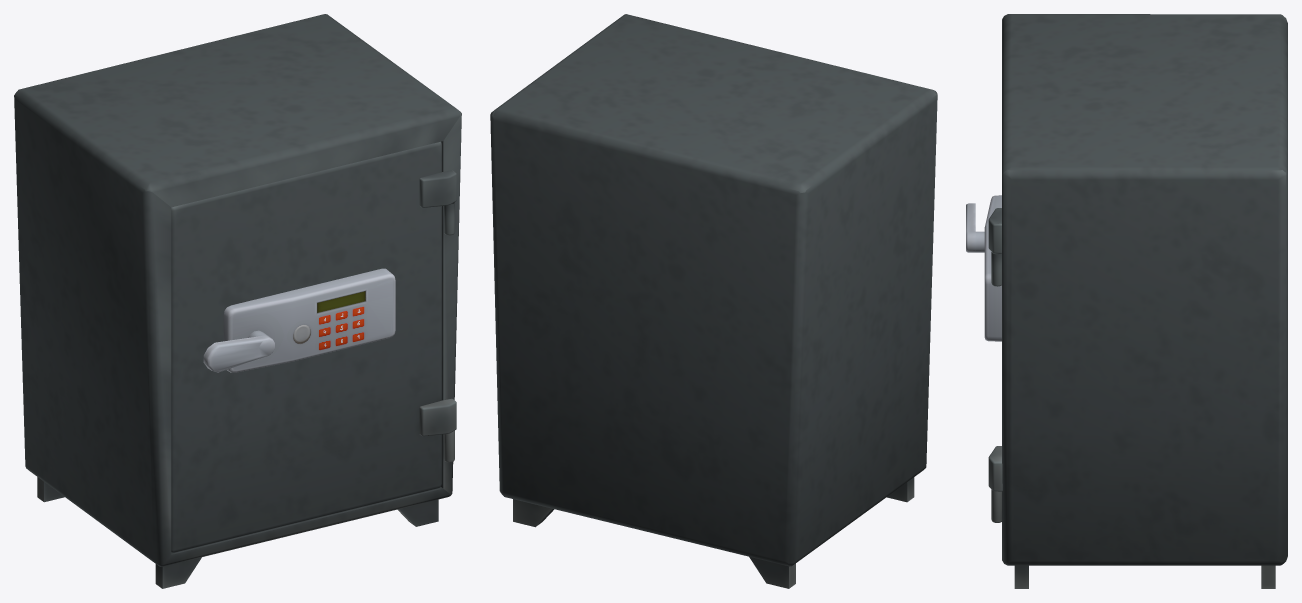
Rendered from OfficeSafe01_1.FBX.
3 renders of one model, left to right at view 1: azimuth 30°, elevation 25°; view 2: azimuth 150°, elevation 25°; view 3: azimuth 270°, elevation 25°, orthographic. The views are drawn at different scales.
Visible parts, largest first — view 1: OfficeSafe01_1; view 2: OfficeSafe01_1; view 3: OfficeSafe01_1.
Part boxes in pixels (left/top/right/bottom): OfficeSafe01_1: left=14, top=14, right=461, bottom=588; OfficeSafe01_1: left=490, top=14, right=937, bottom=588; OfficeSafe01_1: left=966, top=14, right=1287, bottom=588.
Size of what is drawn, in the model's own units: 0.6628 by 0.818 by 0.5568.
